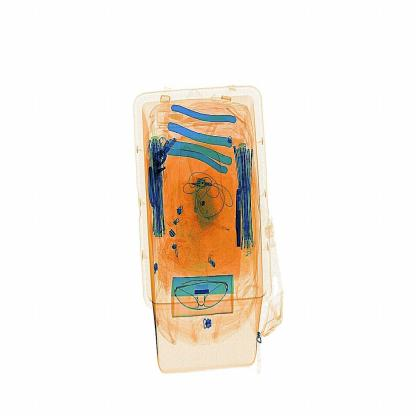pliers: (232, 183, 244, 250)
